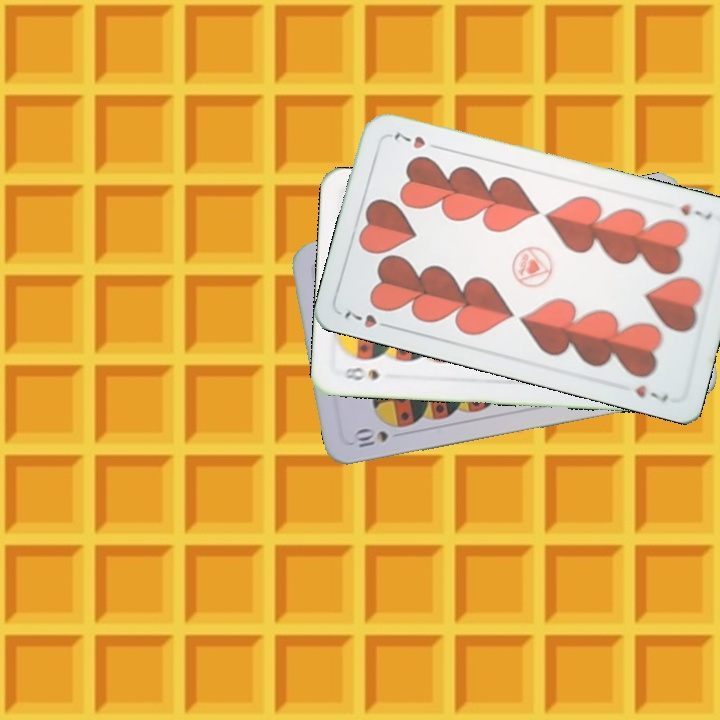H7: (340, 307, 396, 332), (676, 199, 714, 223)
S10: (350, 426, 391, 450)
S8: (338, 363, 382, 383)
